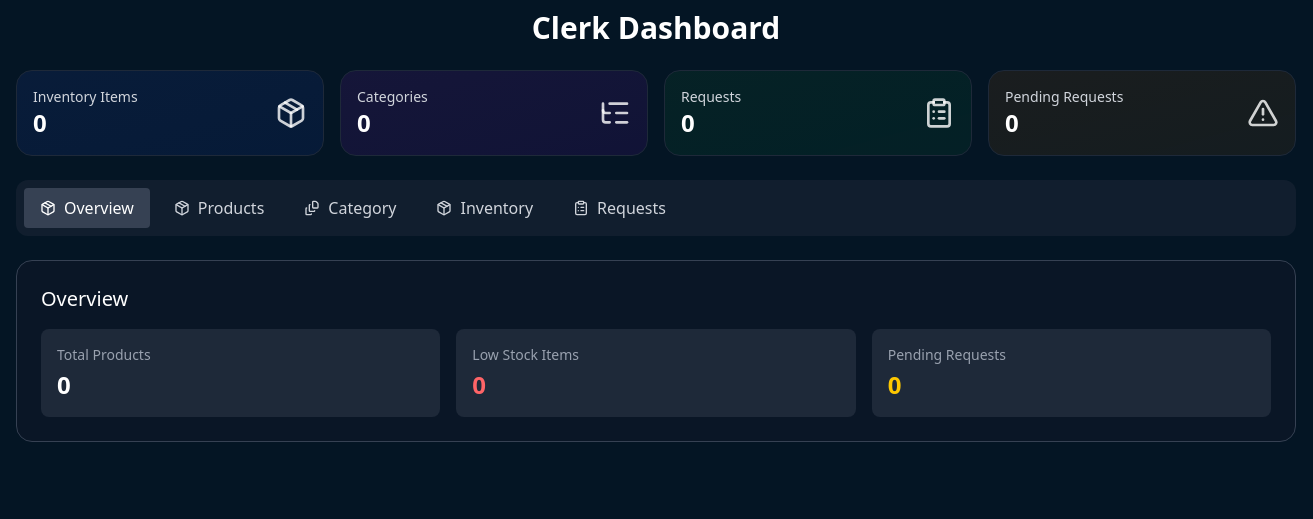
Test: ClerkDashboard › switches to Inventory tab
The image size is (1313, 519).
Click the button "Inventory". click: [485, 208]
box: [420,188,549,228]
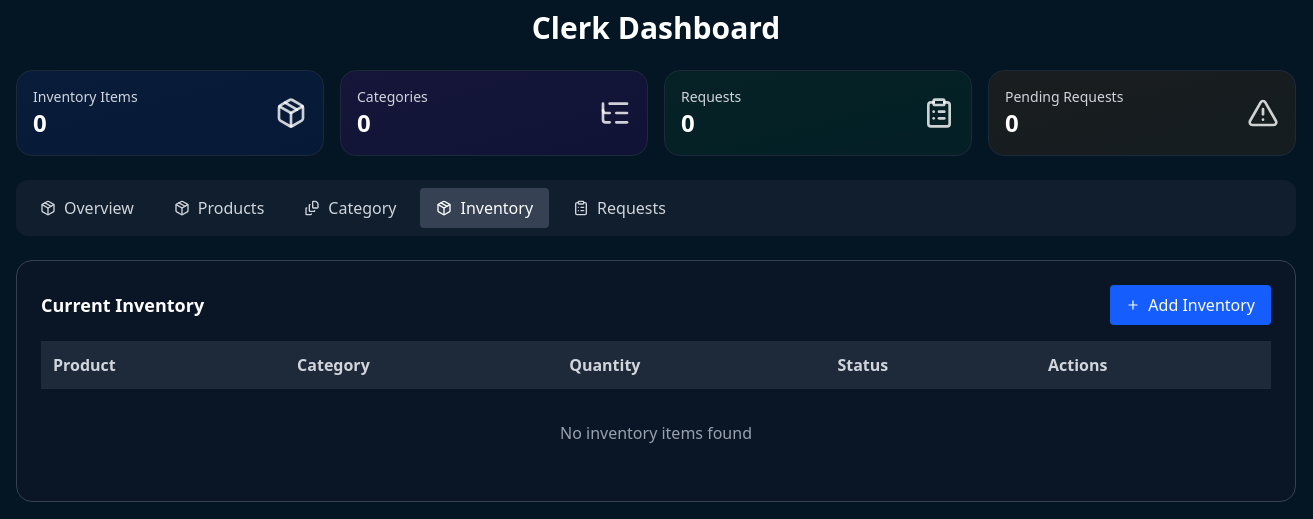
Expected: the column heading "Status" is shown, [825,341,1036,389]
